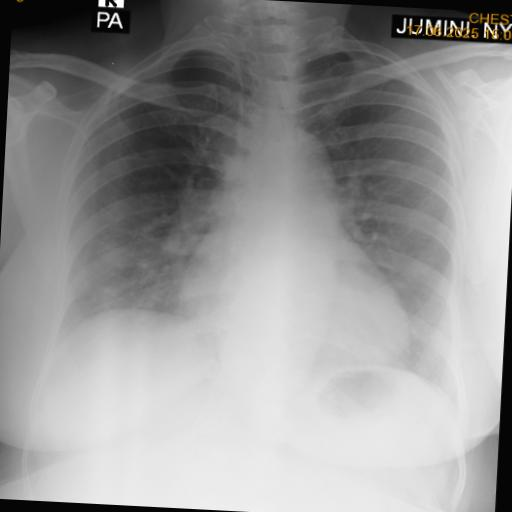kardiomegali: (8, 20, 487, 426)
